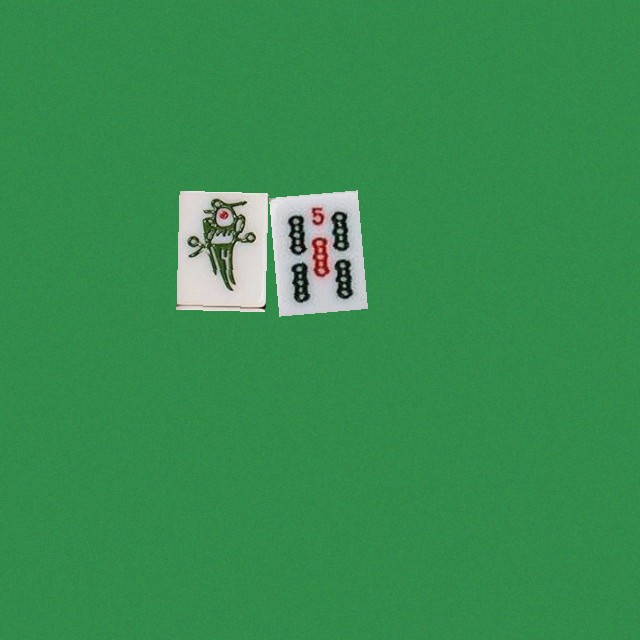tile: (176, 190, 265, 309), (269, 190, 358, 309)
